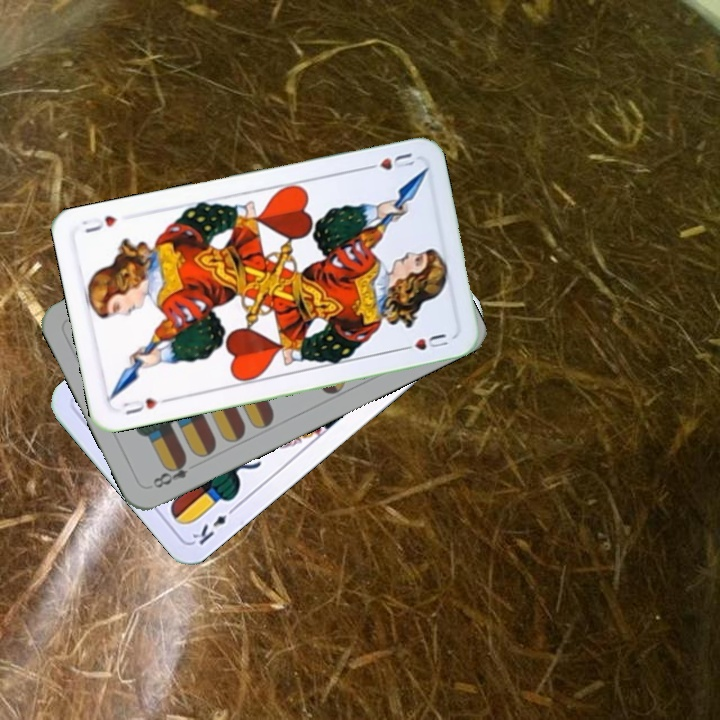E8: (149, 454, 191, 491)
EK: (188, 501, 240, 548)
HU: (360, 149, 417, 173), (119, 394, 172, 418)
